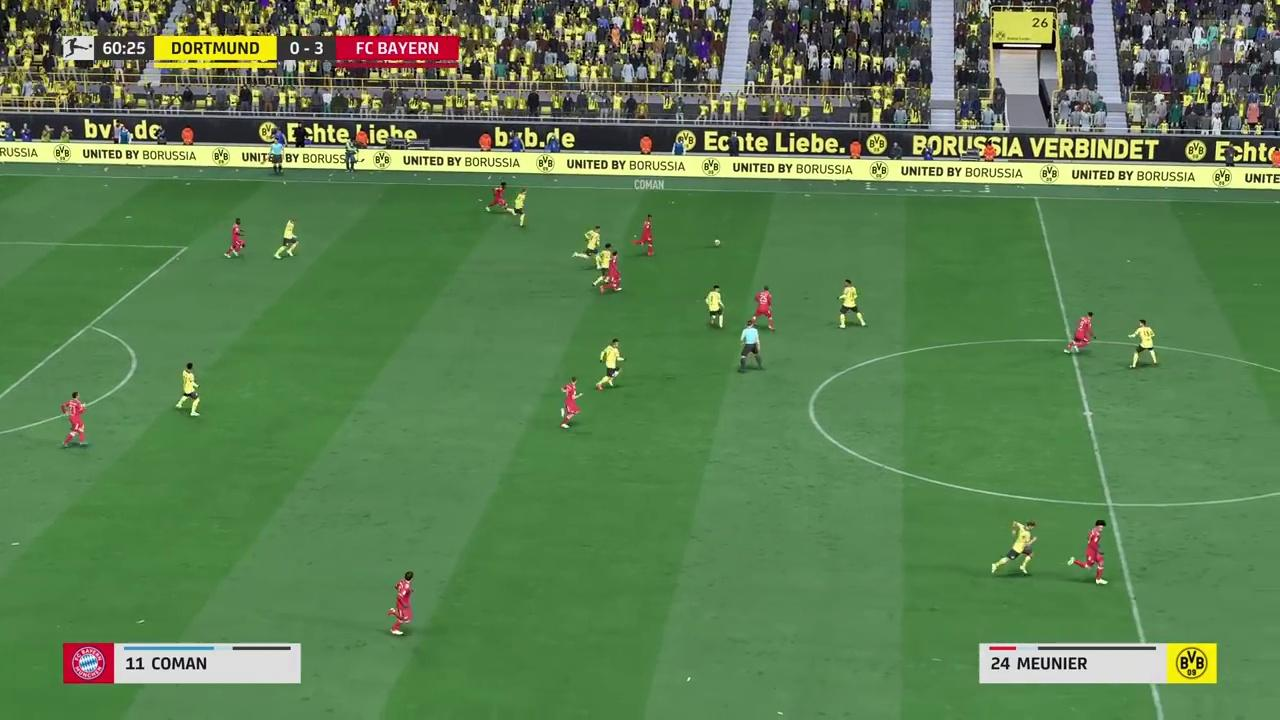scoreboard: (156, 37, 460, 68)
timestamp: (93, 37, 155, 61)
